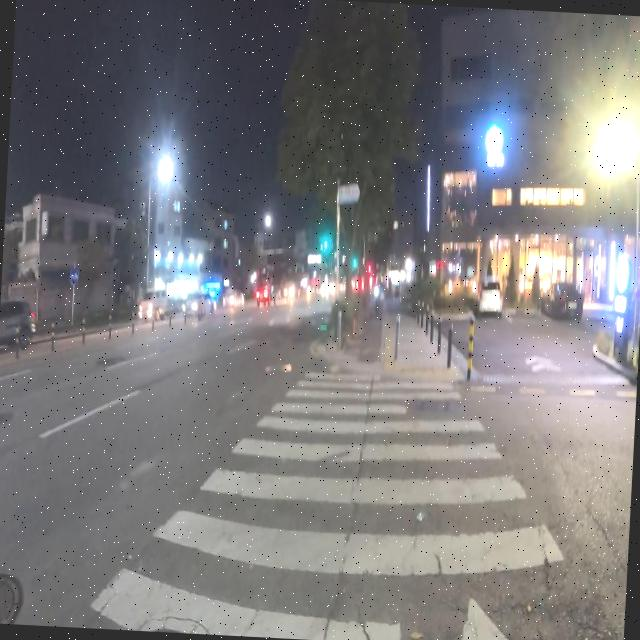crosswalk: (73, 367, 587, 640)
